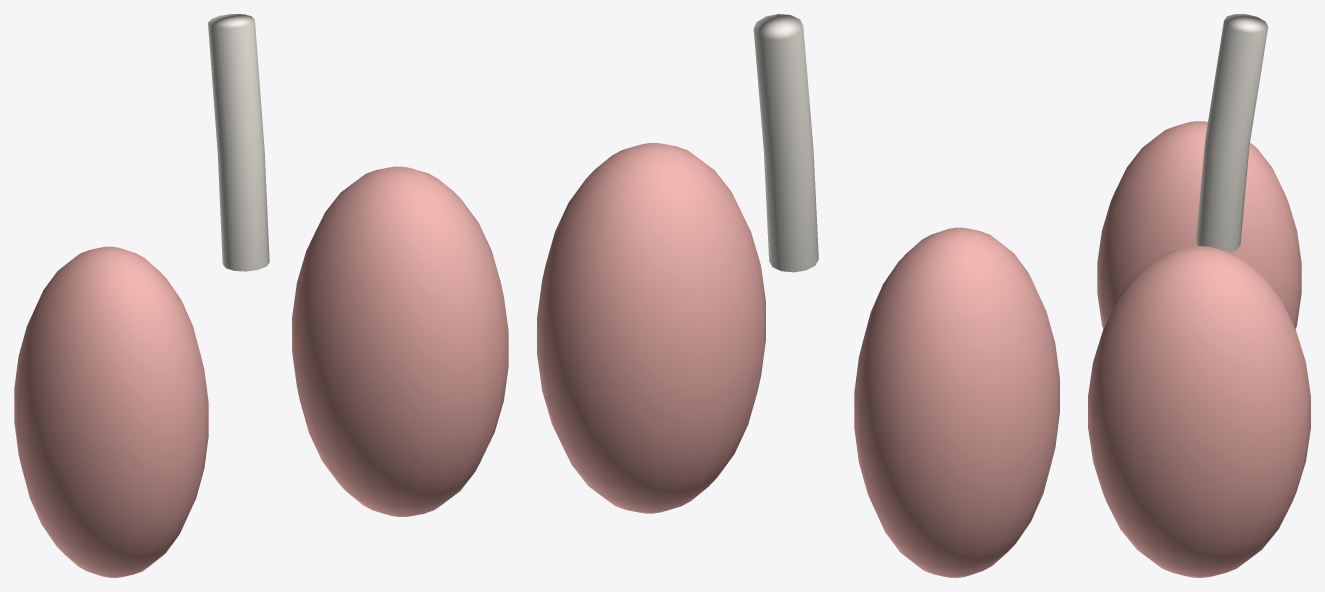
Rendered from lungs.glb.
3 views of the same model, side by side, from view 1: azimuth 30°, elevation 25°; view 2: azimuth 150°, elevation 25°; view 3: azimuth 270°, elevation 25° (orthographic). The views are drawn at different scales.
Visible parts, largest first — view 1: organ_lung_right, organ_lung_left, organ_trachea; view 2: organ_lung_right, organ_lung_left, organ_trachea; view 3: organ_lung_right, organ_lung_left, organ_trachea.
Part boxes in pixels (bbox=[...]): organ_lung_right: bbox=[292, 166, 508, 516]; organ_lung_left: bbox=[14, 246, 208, 577]; organ_trachea: bbox=[208, 14, 269, 271]; organ_lung_right: bbox=[537, 143, 765, 513]; organ_lung_left: bbox=[854, 227, 1059, 577]; organ_trachea: bbox=[753, 14, 818, 272]; organ_lung_right: bbox=[1088, 246, 1310, 577]; organ_lung_left: bbox=[1097, 121, 1301, 329]; organ_trachea: bbox=[1196, 14, 1268, 252].
Size of the model in its own units: 0.2714 by 0.2867 by 0.1193.
